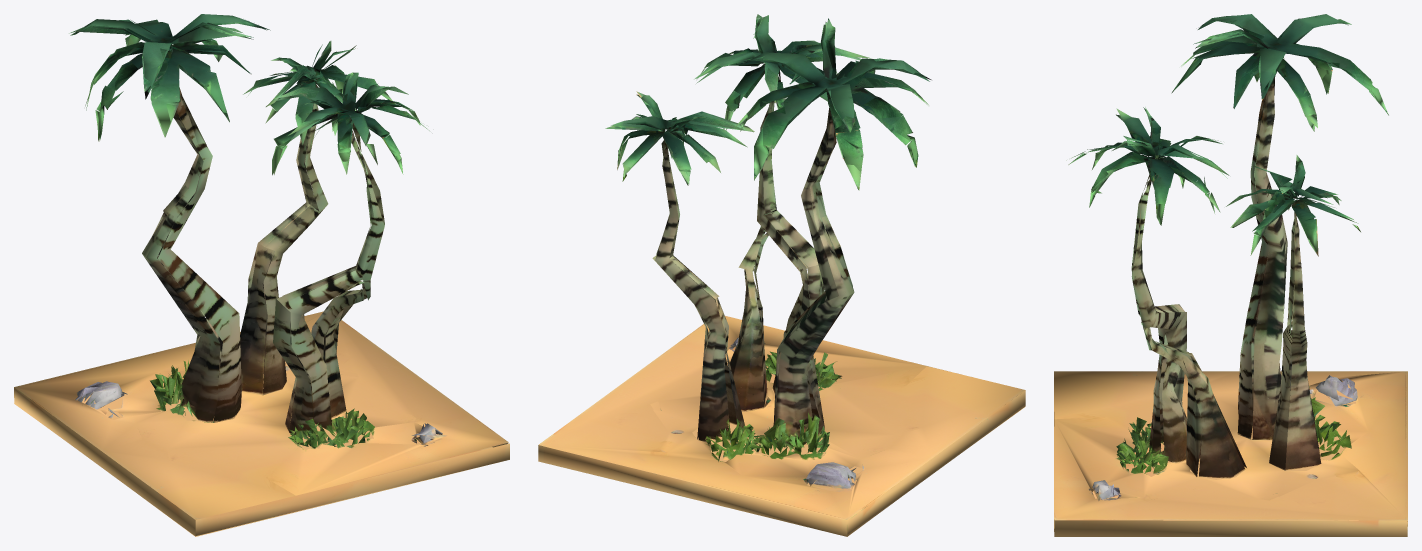
Rendered from palm2.1.glb.
3 renders of one model, left to right at view 1: azimuth 30°, elevation 25°; view 2: azimuth 150°, elevation 25°; view 3: azimuth 270°, elevation 25°, orthographic. The views are drawn at different scales.
Parts seen in each view (by area): view 1: palm2; view 2: palm2; view 3: palm2.
Part boxes in pixels (x1,y1,x2,y2): palm2: [14, 14, 509, 536]; palm2: [538, 14, 1025, 536]; palm2: [1054, 14, 1407, 536].
Size of the model in its own units: 1.5 by 1.91 by 1.5.
Materials: 1 (1 with a texture image).
